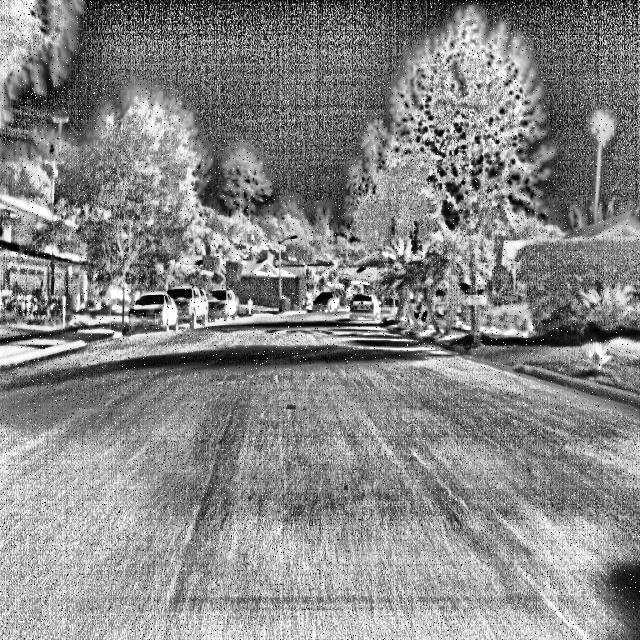car: (130, 280, 178, 344), (168, 272, 211, 328), (207, 266, 244, 329), (346, 290, 385, 335), (310, 281, 345, 324)
